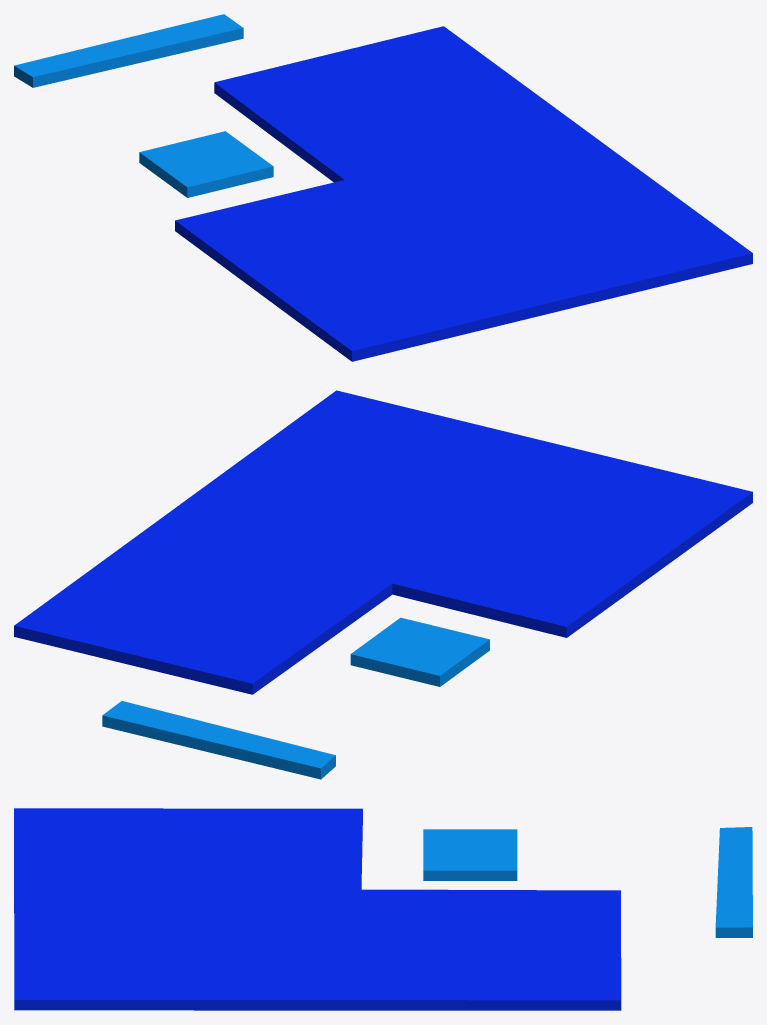
The model's file is parking_4.fbx.
3 renders of one model, top to bottom at view 1: azimuth 30°, elevation 25°; view 2: azimuth 150°, elevation 25°; view 3: azimuth 270°, elevation 25°, orthographic. The views are drawn at different scales.
Parts seen in each view (by area): view 1: Line053, Line054, Box040; view 2: Line053, Line054, Box040; view 3: Line053, Box040, Line054.
Boxes of the visible parts, bbox=[...] form: Line053: bbox=[175, 26, 752, 361]; Line054: bbox=[14, 14, 243, 87]; Box040: bbox=[139, 131, 273, 197]; Line053: bbox=[14, 390, 752, 694]; Line054: bbox=[102, 701, 335, 779]; Box040: bbox=[350, 617, 489, 686]; Line053: bbox=[14, 808, 621, 1010]; Box040: bbox=[423, 829, 517, 880]; Line054: bbox=[715, 827, 752, 937].
Bounding box in the file's own units: 77.29 × 1.97 × 126.
